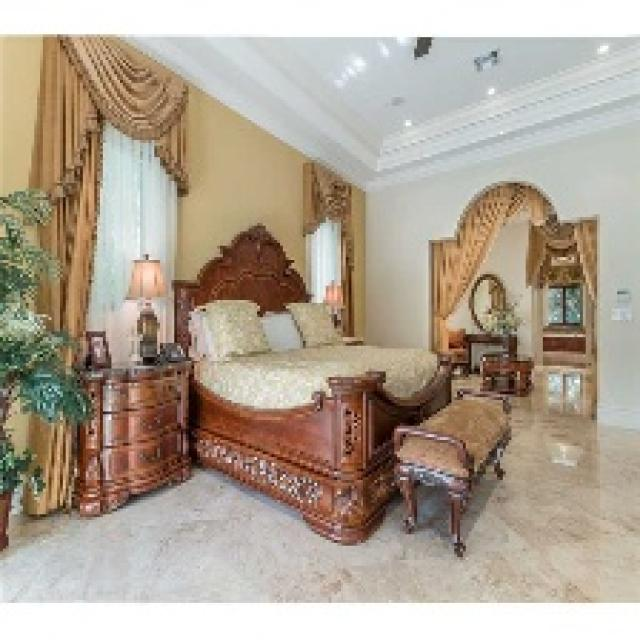Bed: (172, 220, 452, 543)
